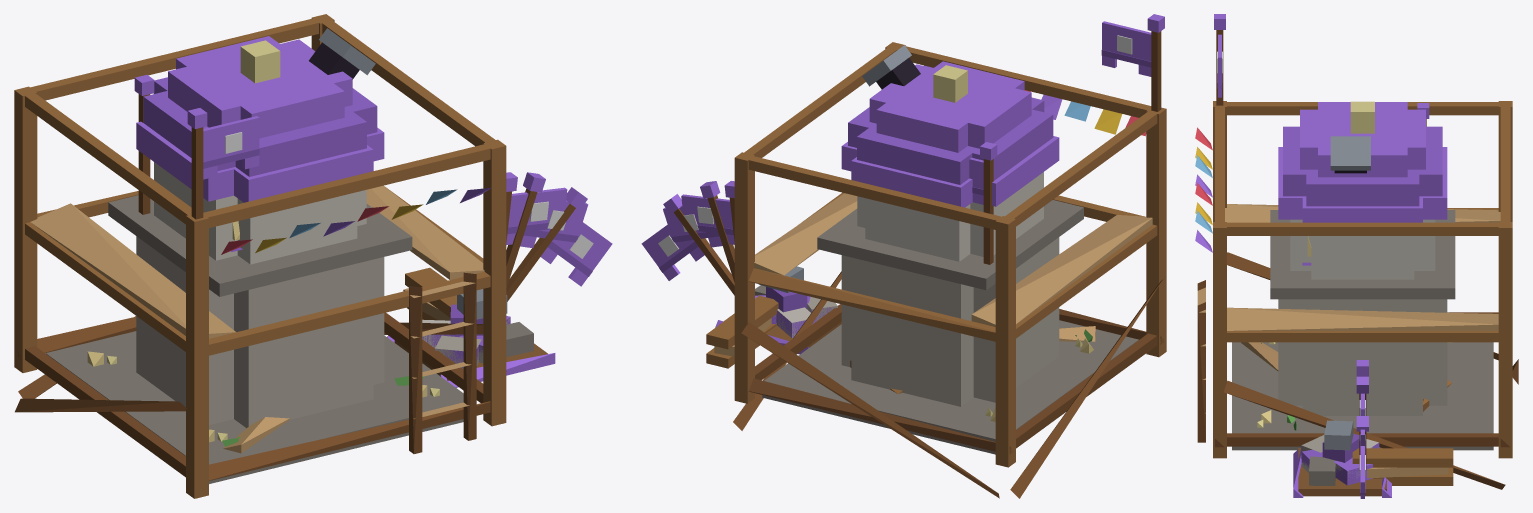
Rendered from moth-research.glb.
3 views of the same model, side by side, from view 1: azimuth 30°, elevation 25°; view 2: azimuth 150°, elevation 25°; view 3: azimuth 270°, elevation 25° (orthographic). The views are drawn at different scales.
Visible parts, largest first — view 1: scaffold-mesh, built-mesh, dismantle-75-mesh, dismantle-50-mesh, scaffold-banner, dismantle-25-mesh, dismantle-25-banner, dismantle-75-banner, scaffold-flag-pole, dismantle-25-flag-pole, dismantle-50-banner, dismantle-50-flag-pole (+1 smaller); view 2: scaffold-mesh, built-mesh, dismantle-75-mesh, dismantle-50-mesh, scaffold-banner, dismantle-25-mesh, dismantle-25-banner, dismantle-75-banner, flag-pole, dismantle-50-banner, scaffold-flag-pole, dismantle-25-flag-pole (+2 smaller); view 3: scaffold-mesh, built-mesh, dismantle-75-mesh, dismantle-25-mesh, dismantle-50-mesh, scaffold-flag-pole.
Boxes of the visible parts, left/top/right/bottom form: scaffold-mesh: left=14, top=14, right=506, bottom=498; built-mesh: left=87, top=28, right=412, bottom=426; dismantle-75-mesh: left=46, top=162, right=555, bottom=464; dismantle-50-mesh: left=93, top=294, right=533, bottom=452; scaffold-banner: left=203, top=116, right=259, bottom=179; dismantle-25-mesh: left=217, top=289, right=547, bottom=453; dismantle-25-banner: left=540, top=214, right=612, bottom=286; dismantle-75-banner: left=506, top=187, right=567, bottom=244; scaffold-flag-pole: left=187, top=108, right=207, bottom=219; dismantle-25-flag-pole: left=506, top=187, right=587, bottom=301; dismantle-50-banner: left=520, top=200, right=588, bottom=253; dismantle-50-flag-pole: left=506, top=172, right=545, bottom=288; scaffold-mesh: left=706, top=42, right=1166, bottom=498; built-mesh: left=817, top=45, right=1092, bottom=417; dismantle-75-mesh: left=715, top=172, right=1138, bottom=453; dismantle-50-mesh: left=755, top=285, right=1095, bottom=454; scaffold-banner: left=1101, top=21, right=1151, bottom=76; dismantle-25-mesh: left=719, top=266, right=1095, bottom=453; dismantle-25-banner: left=641, top=219, right=704, bottom=280; dismantle-75-banner: left=681, top=194, right=734, bottom=244; flag-pole: left=980, top=142, right=997, bottom=264; dismantle-50-banner: left=663, top=203, right=722, bottom=252; scaffold-flag-pole: left=1147, top=14, right=1164, bottom=111; dismantle-25-flag-pole: left=663, top=194, right=734, bottom=295; scaffold-mesh: left=1195, top=101, right=1518, bottom=489; built-mesh: left=1261, top=101, right=1455, bottom=430; dismantle-75-mesh: left=1232, top=210, right=1493, bottom=497; dismantle-25-mesh: left=1241, top=342, right=1451, bottom=492; dismantle-50-mesh: left=1241, top=342, right=1451, bottom=496; scaffold-flag-pole: left=1214, top=14, right=1225, bottom=105.
Bounding box in the file's own units: 2.45 × 1.92 × 1.61.
